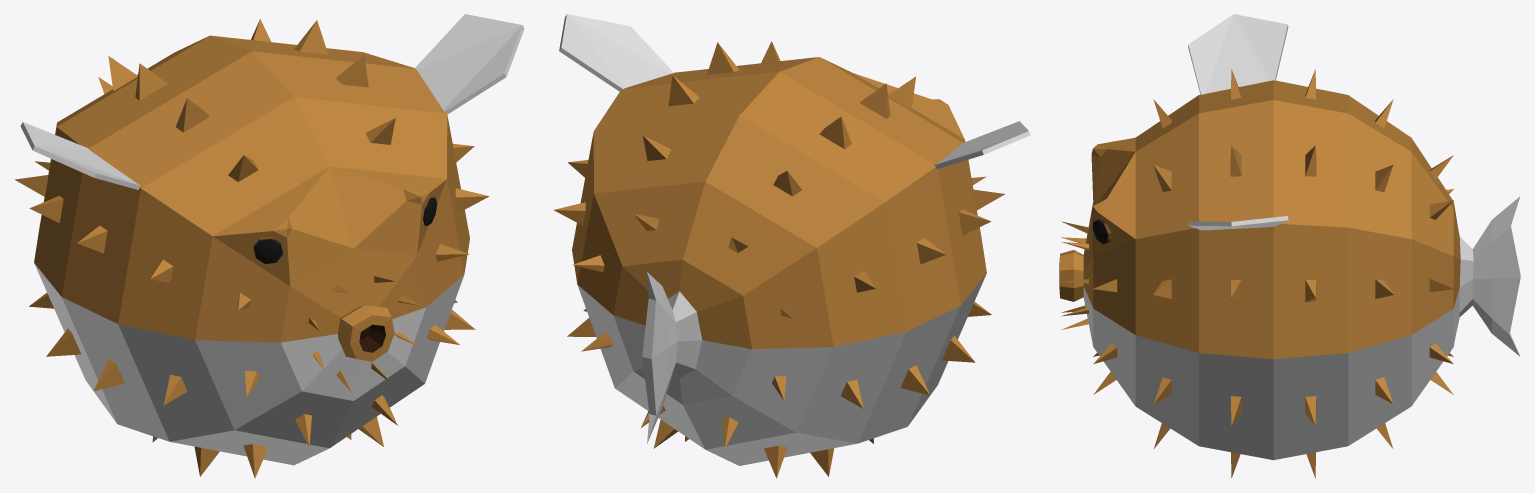
The model's file is Blowfish_01.fbx.
3 renders of one model, left to right at view 1: azimuth 30°, elevation 25°; view 2: azimuth 150°, elevation 25°; view 3: azimuth 270°, elevation 25°, orthographic. The views are drawn at different scales.
Visible parts, largest first — view 1: Blowfish_01; view 2: Blowfish_01; view 3: Blowfish_01.
Boxes of the visible parts, x1,y1,x2,y2 form: Blowfish_01: (15, 14, 524, 478); Blowfish_01: (554, 14, 1030, 478); Blowfish_01: (1059, 14, 1520, 478).
Bounding box in the file's own units: 8.51 × 6.6 × 7.8.
